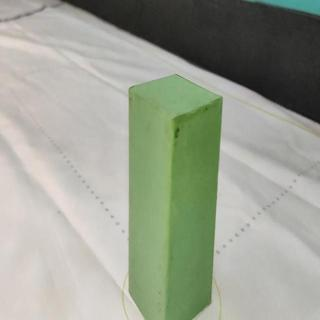greenbox: (125, 71, 225, 320)
